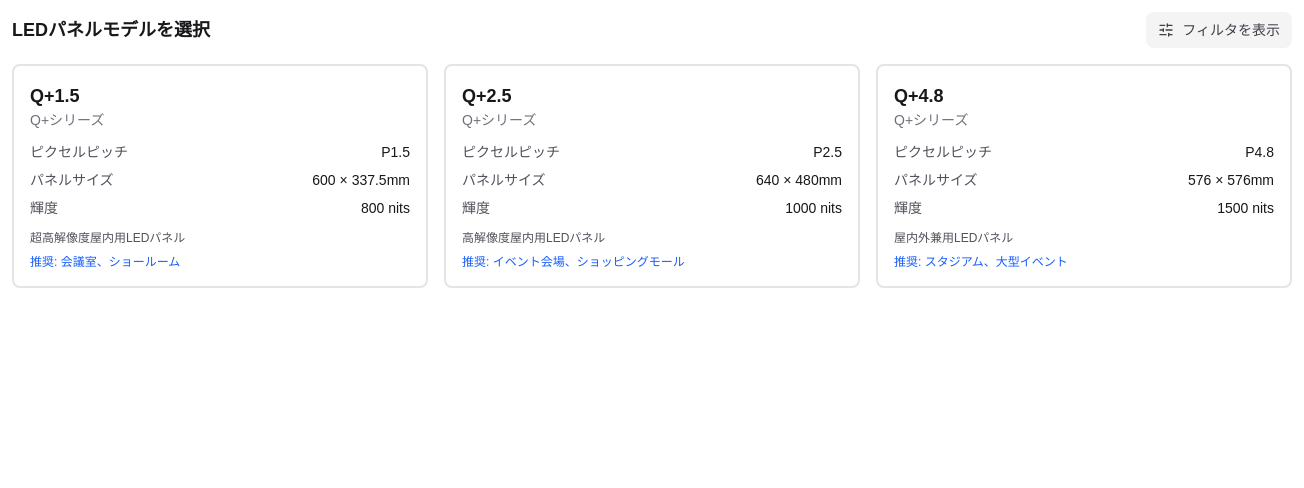
Test: PanelSelector › Filter visibility toggle › should show filters when toggle button is clicked
This screenshot has width=1304, height=488.
Click the button "フィルタを表示" at (1219, 30), box [1146,12,1292,48]
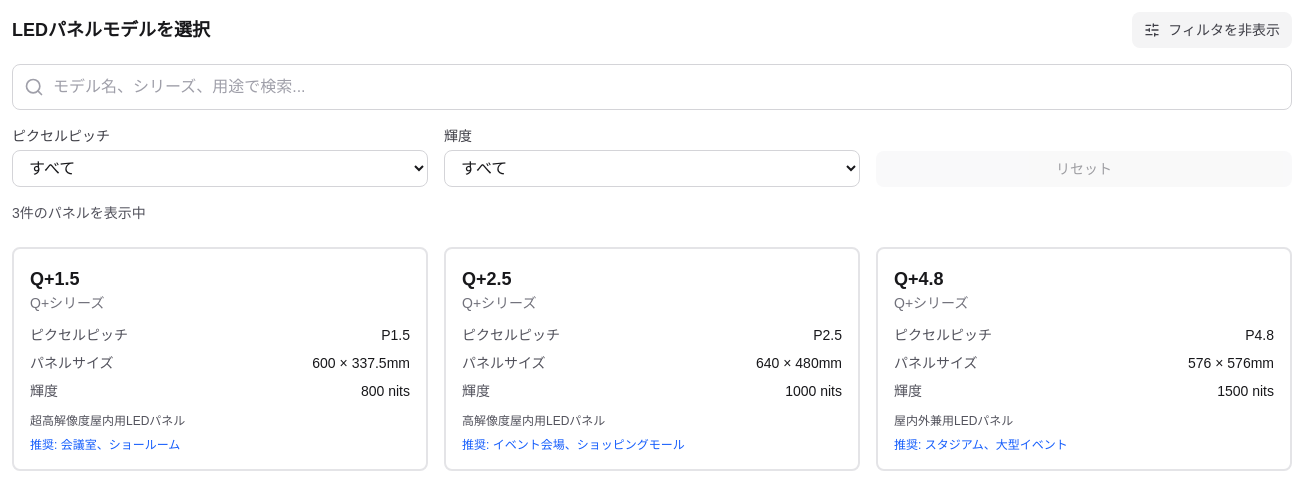
expect the field with placeholder "モデル名、シリーズ、用途で検索..." is shown: met, box [12,64,1292,110]
expect the text "フィルタを非表示" is shown: met, box [1168,20,1280,40]
